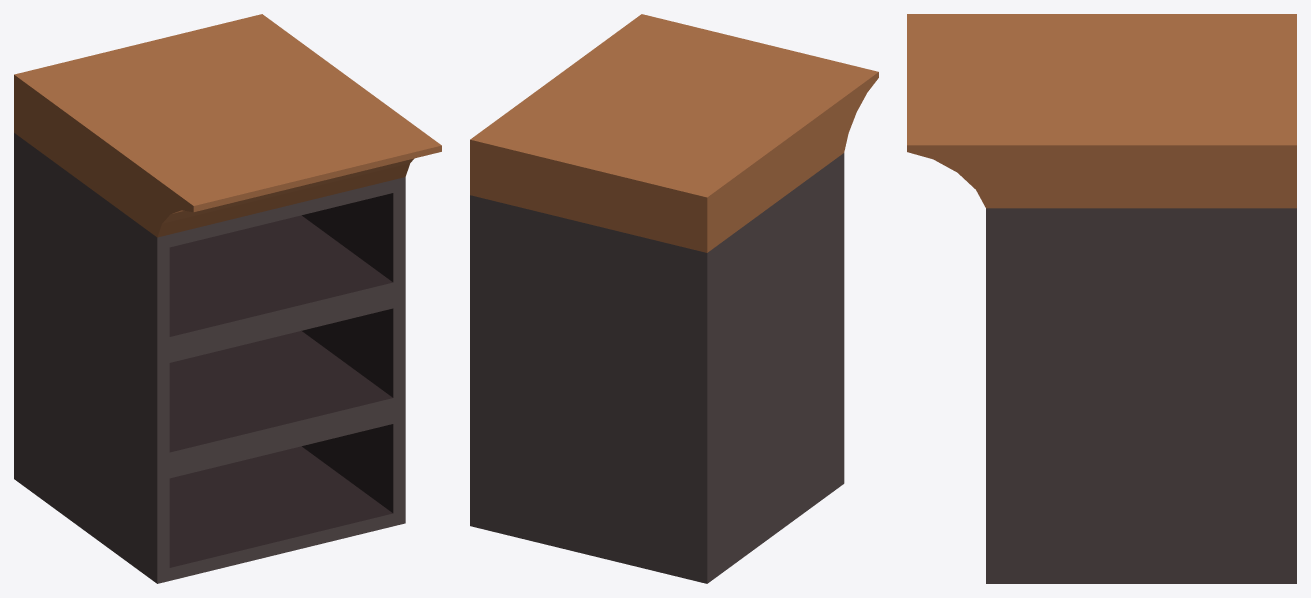
The model's file is Prop_KitchenCabinet_02_B.fbx.
3 views of the same model, side by side, from view 1: azimuth 30°, elevation 25°; view 2: azimuth 150°, elevation 25°; view 3: azimuth 270°, elevation 25° (orthographic). The views are drawn at different scales.
Parts seen in each view (by area): view 1: Prop_KitchenCabinet_02_B; view 2: Prop_KitchenCabinet_02_B; view 3: Prop_KitchenCabinet_02_B.
Part boxes in pixels (left/top/right/bottom): Prop_KitchenCabinet_02_B: left=14, top=14, right=441, bottom=583; Prop_KitchenCabinet_02_B: left=470, top=14, right=878, bottom=583; Prop_KitchenCabinet_02_B: left=907, top=14, right=1296, bottom=583.
Bounding box in the file's own units: 60 × 93.41 × 75.21.
